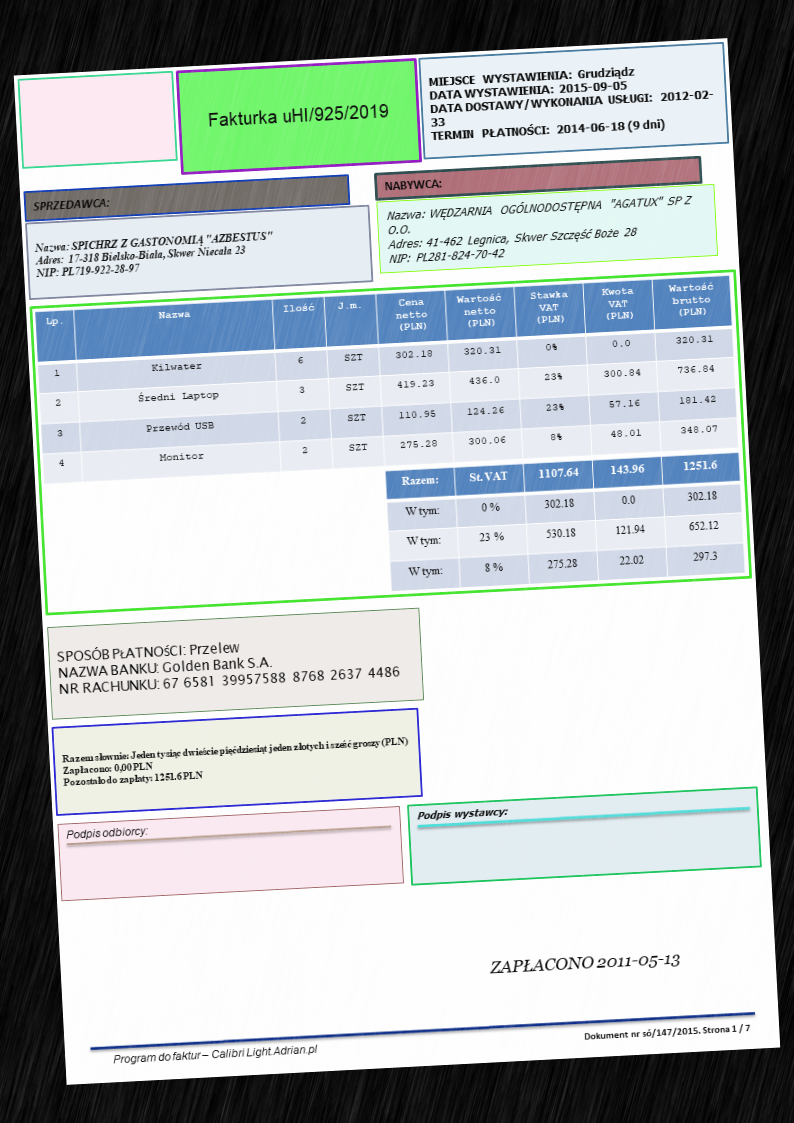Table: (33, 273, 739, 486), (384, 451, 746, 594)
TextBox: (426, 59, 719, 145), (54, 629, 402, 700), (383, 191, 698, 268), (59, 733, 412, 789), (32, 227, 277, 281), (487, 946, 682, 981), (111, 1039, 320, 1069), (205, 100, 392, 131), (582, 1020, 752, 1044), (414, 802, 510, 826), (63, 822, 149, 843), (29, 193, 113, 214), (381, 175, 443, 195)
